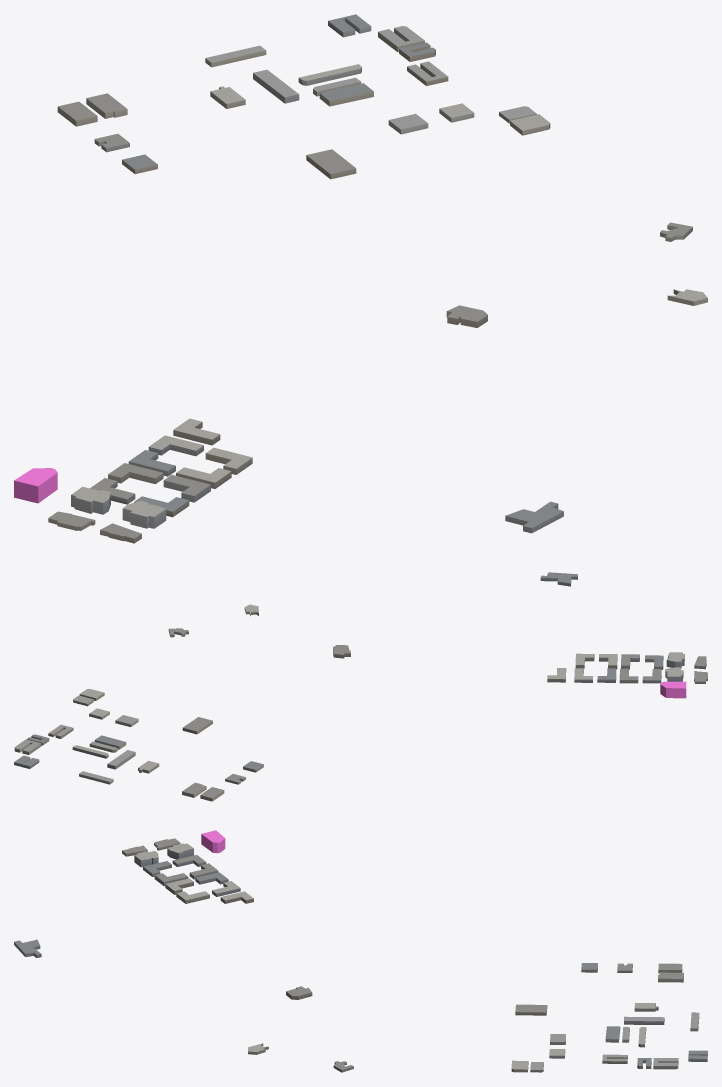
File: bld_15_7.fbx
3 views of the same model, one above another, from view 1: azimuth 30°, elevation 25°; view 2: azimuth 150°, elevation 25°; view 3: azimuth 270°, elevation 25° (orthographic). The views are drawn at different scales.
Visible parts, largest first — view 1: bld_15_7_LOD0, bld_15_7_COL; view 2: bld_15_7_LOD0, bld_15_7_COL; view 3: bld_15_7_LOD0, bld_15_7_COL.
Boxes of the visible parts, bbox=[...] form: bld_15_7_LOD0: bbox=[48, 14, 707, 543]; bld_15_7_COL: bbox=[14, 468, 57, 503]; bld_15_7_LOD0: bbox=[14, 572, 707, 801]; bld_15_7_COL: bbox=[660, 681, 686, 698]; bld_15_7_LOD0: bbox=[14, 838, 707, 1072]; bld_15_7_COL: bbox=[201, 830, 225, 853].
Size of what is drawn, in the model's own units: 1632 by 33.93 by 2062.
